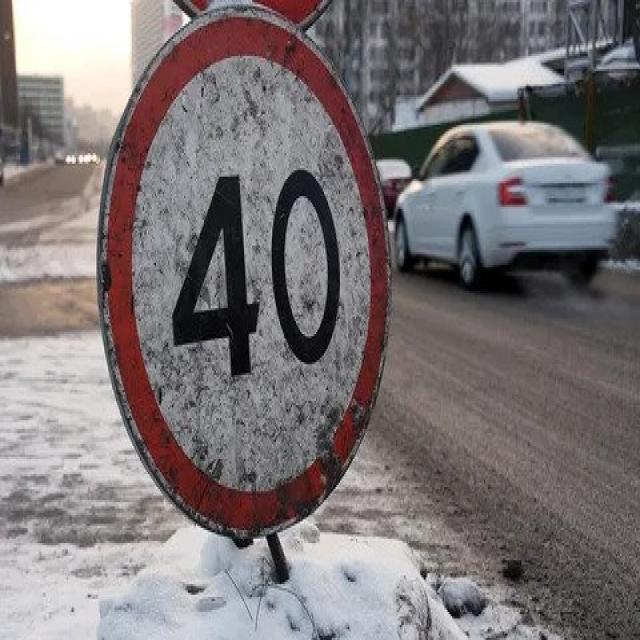speed limit 40: (93, 0, 397, 541)
